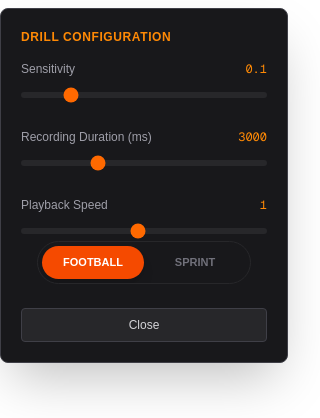
Scenario: SettingsComponent - Unit Tests › powinien aktualizować Recording Duration
This screenshot has width=320, height=418.
Set the slider below "3000" to "5000" at [144, 163], box x1=21 y1=160 x2=267 y2=166
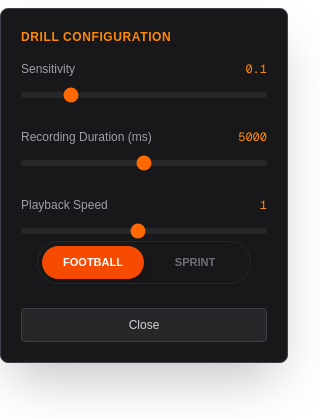
Expected: the text "5000" is shown, x1=238 y1=129 x2=267 y2=145
